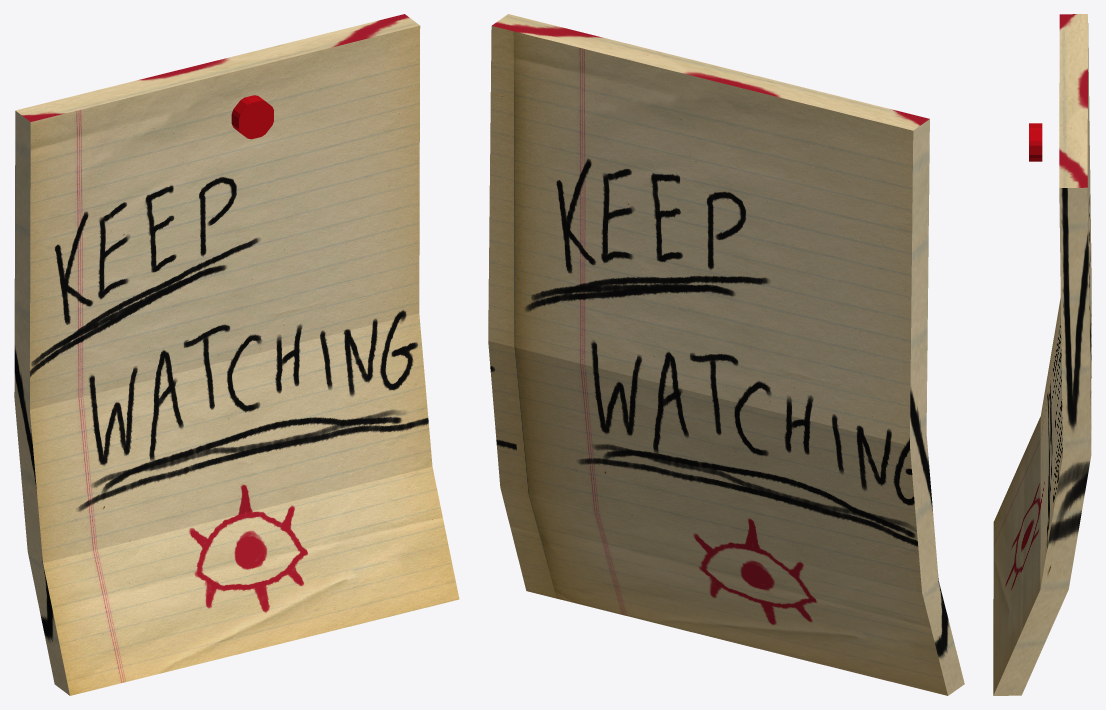
The model's file is pinned note TW.fbx.
3 renders of one model, left to right at view 1: azimuth 30°, elevation 25°; view 2: azimuth 150°, elevation 25°; view 3: azimuth 270°, elevation 25°, orthographic. The views are drawn at different scales.
Visible parts, largest first — view 1: Cube.019, Cube.020; view 2: Cube.019; view 3: Cube.019, Cube.020.
Part boxes in pixels (bbox=[...]): Cube.019: bbox=[14, 14, 459, 695]; Cube.020: bbox=[231, 95, 273, 139]; Cube.019: bbox=[488, 14, 964, 695]; Cube.019: bbox=[993, 14, 1091, 695]; Cube.020: bbox=[1029, 123, 1042, 161].
Size of the model in its own units: 57.26 by 76.67 by 13.45.
